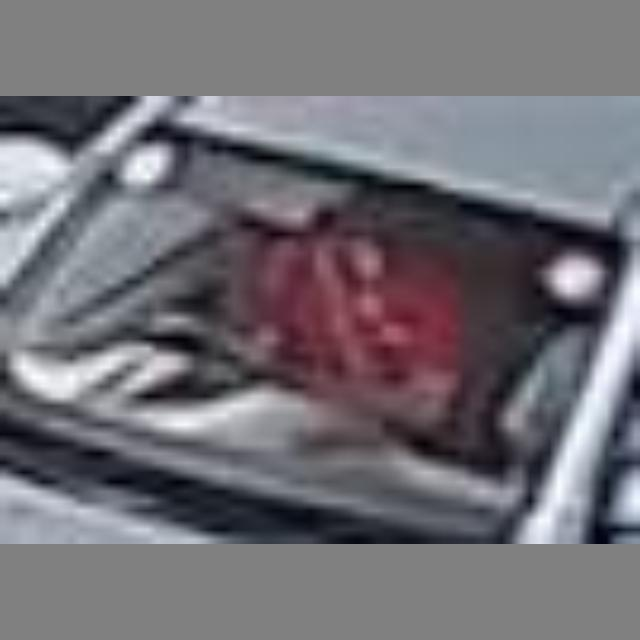pakai: (239, 201, 449, 421)
